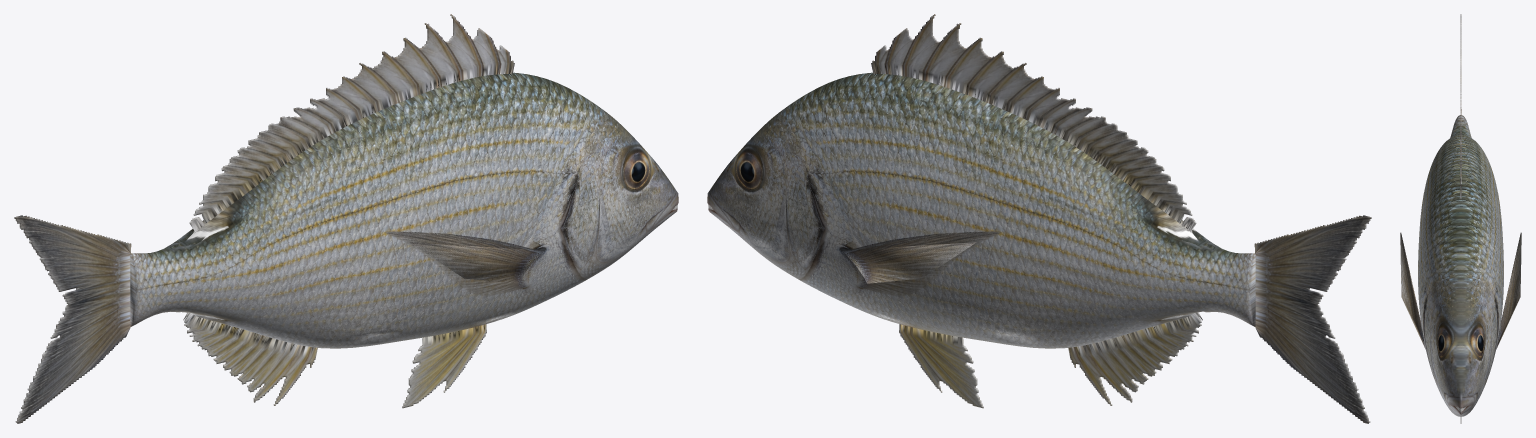
File: white_stumpnose.glb
3 views of the same model, side by side, from view 1: azimuth 30°, elevation 25°; view 2: azimuth 150°, elevation 25°; view 3: azimuth 270°, elevation 25° (orthographic). The views are drawn at different scales.
Visible parts, largest first — view 1: white_stumpnose_realistic; view 2: white_stumpnose_realistic; view 3: white_stumpnose_realistic.
Part boxes in pixels (x1,y1,x2,y2): white_stumpnose_realistic: (14, 14, 678, 423); white_stumpnose_realistic: (707, 14, 1371, 423); white_stumpnose_realistic: (1400, 14, 1521, 423).
Bounding box in the file's own units: 1 × 0.55 × 0.1894.
Materials: 3 (3 with a texture image).
